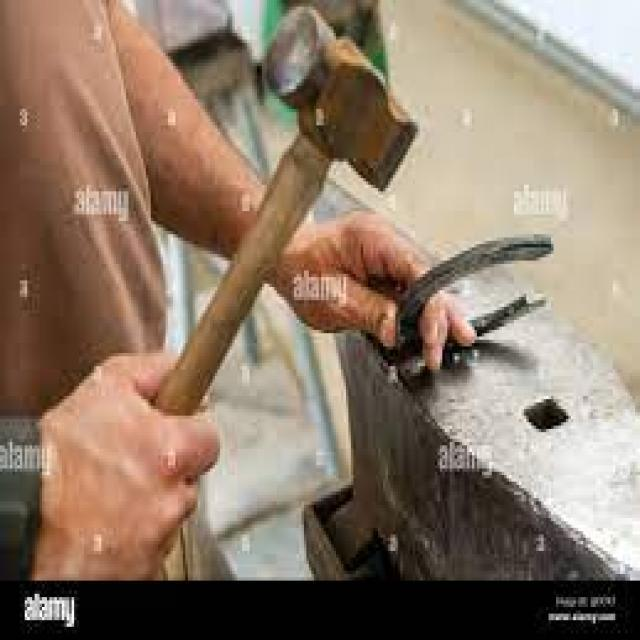hammer: (86, 2, 422, 580)
